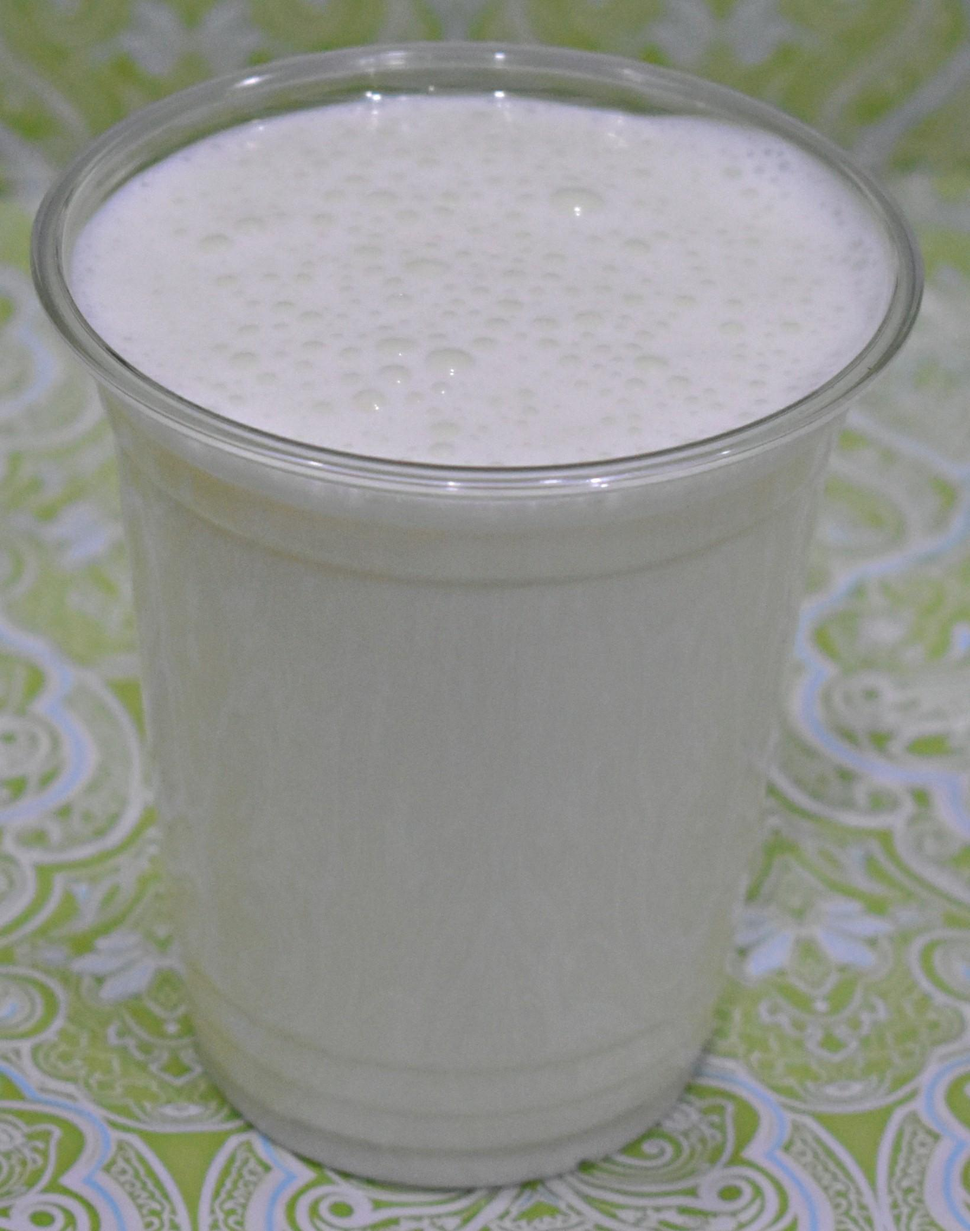Lassi: (78, 93, 887, 1137)
